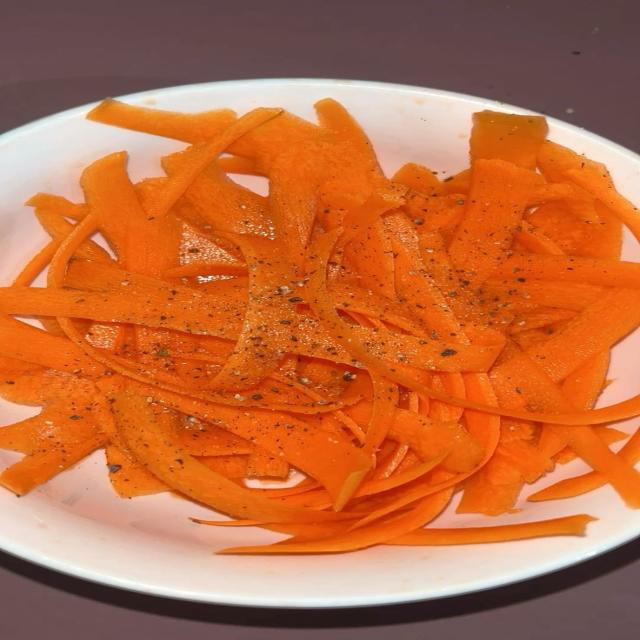carrot: (0, 100, 639, 553), (113, 392, 340, 522), (0, 434, 106, 495), (87, 99, 235, 142), (387, 515, 595, 545), (492, 254, 639, 288), (470, 111, 546, 169), (527, 472, 607, 501)
